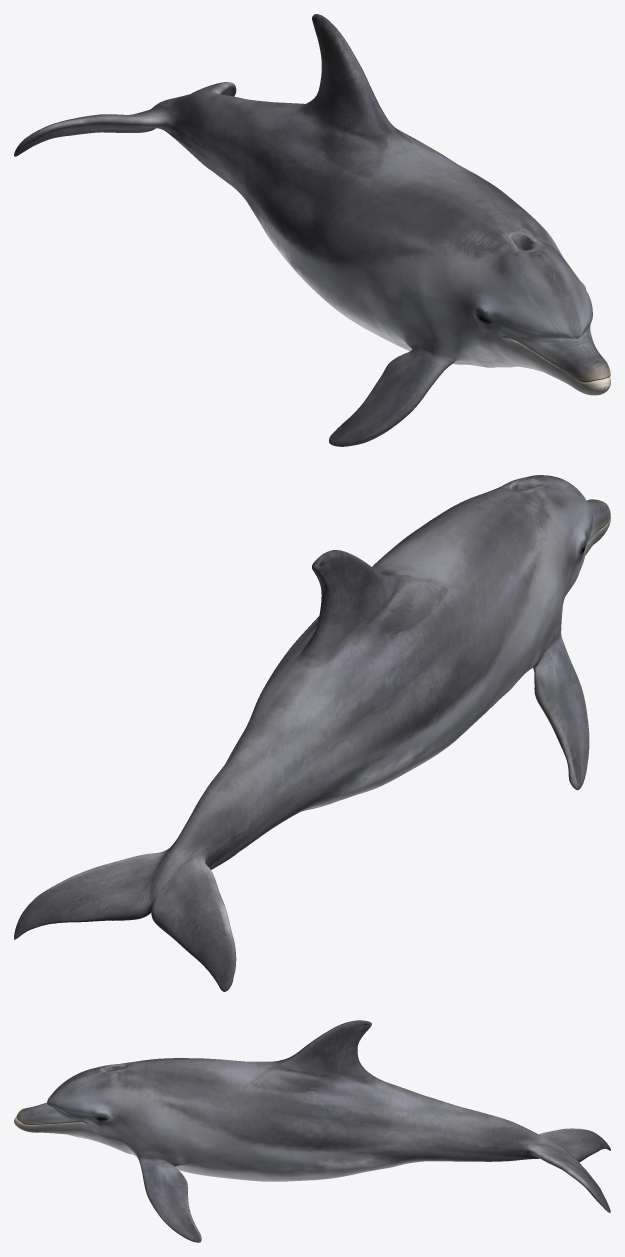
Rendered from dolphin1.glb.
The picture shows the model from 3 angles, top to bottom: view 1: azimuth 30°, elevation 25°; view 2: azimuth 150°, elevation 25°; view 3: azimuth 270°, elevation 25°; orthographic projection. The views are drawn at different scales.
Visible parts, largest first — view 1: dolphin; view 2: dolphin; view 3: dolphin.
Boxes of the visible parts, x1,y1,x2,y2 form: dolphin: [14, 14, 610, 446]; dolphin: [14, 475, 610, 991]; dolphin: [14, 1020, 610, 1242].
Bounding box in the file's own units: 0.8327 × 0.9571 × 2.8.
1 material, 1 textured.
